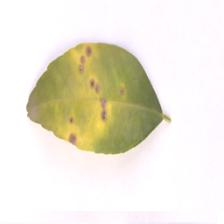canker: (49, 45, 130, 158)
